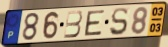6: (42, 10, 60, 41)
8: (21, 12, 40, 42), (130, 5, 149, 35)
B: (62, 10, 84, 40)
E: (84, 9, 106, 37)
S: (109, 7, 129, 37)
